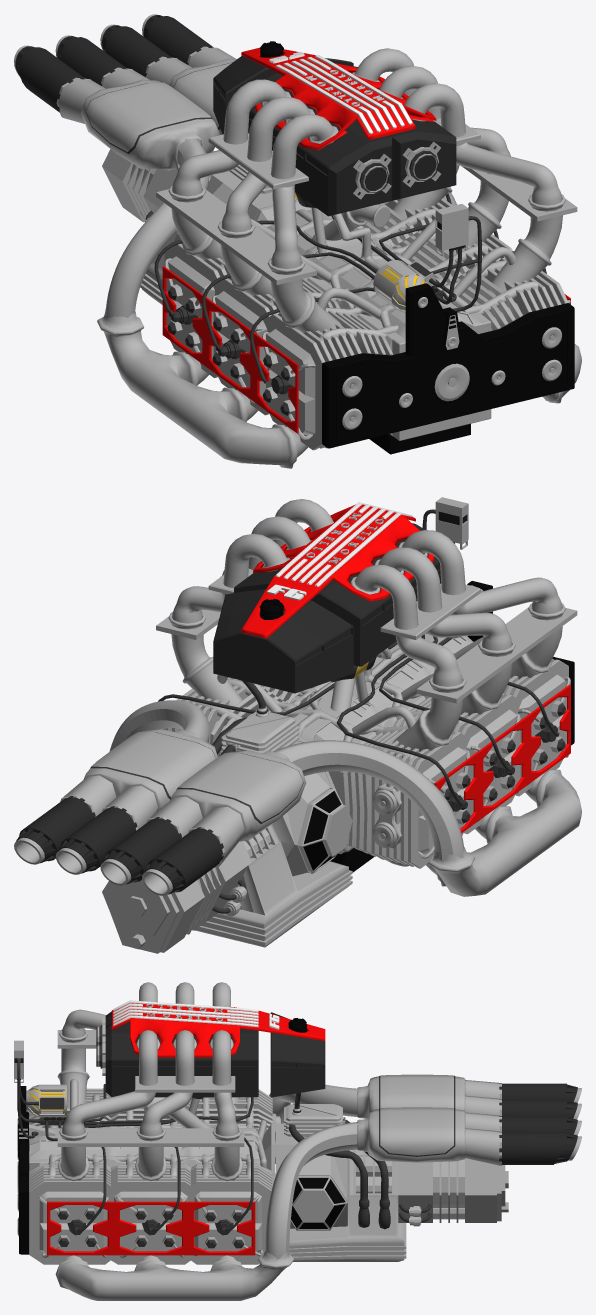
The model's file is boxer-engine.glb.
3 renders of one model, top to bottom at view 1: azimuth 30°, elevation 25°; view 2: azimuth 150°, elevation 25°; view 3: azimuth 270°, elevation 25°, orthographic. The views are drawn at different scales.
Parts seen in each view (by area): view 1: Object_15, Object_14, Object_7, Object_21, Object_10, Object_12, Object_11, Object_13, Object_18, Object_4, Object_8, Object_22 (+3 smaller); view 2: Object_15, Object_21, Object_14, Object_10, Object_13, Object_12, Object_11, Object_4, Object_18, Object_8, Object_22, Object_9 (+2 smaller); view 3: Object_15, Object_21, Object_11, Object_10, Object_13, Object_18, Object_14, Object_8, Object_12, Object_4, Object_22, Object_7 (+2 smaller).
Boxes of the visible parts, x1,y1,x2,y2 form: Object_15: (58,14,581,450); Object_14: (14,35,510,468); Object_7: (322,283,574,448); Object_21: (15,15,456,216); Object_10: (59,48,577,449); Object_12: (168,164,559,463); Object_11: (127,164,565,448); Object_13: (102,149,568,324); Object_18: (85,62,546,415); Object_4: (241,47,436,150); Object_8: (162,266,570,433); Object_22: (275,55,412,134); Object_15: (14,499,568,874); Object_21: (16,523,441,894); Object_14: (60,570,581,896); Object_10: (104,607,577,953); Object_13: (102,497,482,952); Object_12: (168,576,565,881); Object_11: (131,659,554,953); Object_4: (241,504,434,638); Object_18: (89,509,565,913); Object_8: (164,684,570,833); Object_22: (275,502,412,586); Object_9: (260,599,374,872); Object_15: (29,982,581,1300); Object_21: (105,1011,577,1164); Object_11: (17,1090,508,1261); Object_10: (18,1030,404,1264); Object_13: (14,1040,496,1264); Object_18: (16,1025,455,1248); Object_14: (29,1083,581,1254); Object_8: (47,1201,255,1255); Object_12: (57,1030,342,1260); Object_4: (111,1003,325,1057); Object_22: (113,1000,258,1027); Object_7: (17,1086,28,1254).
Bounding box in the file's own units: 9.23 × 7.29 × 15.85.
